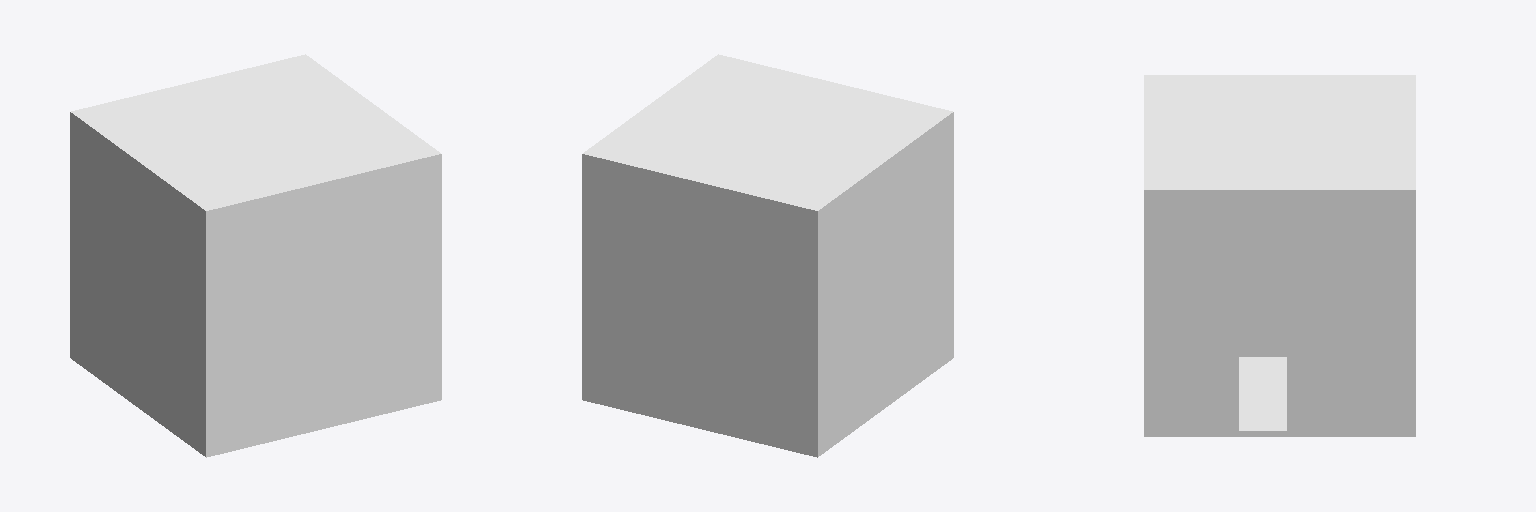
File: piece.obj
3 renders of one model, left to right at view 1: azimuth 30°, elevation 25°; view 2: azimuth 150°, elevation 25°; view 3: azimuth 270°, elevation 25°, orthographic.
Visible parts, largest first — view 1: object 1; view 2: object 1; view 3: object 1.
Part boxes in pixels (left/top/right/bottom): object 1: left=70, top=54, right=441, bottom=457; object 1: left=582, top=54, right=953, bottom=457; object 1: left=1144, top=75, right=1415, bottom=436.
Size of the model in its own units: 4 by 4 by 4.